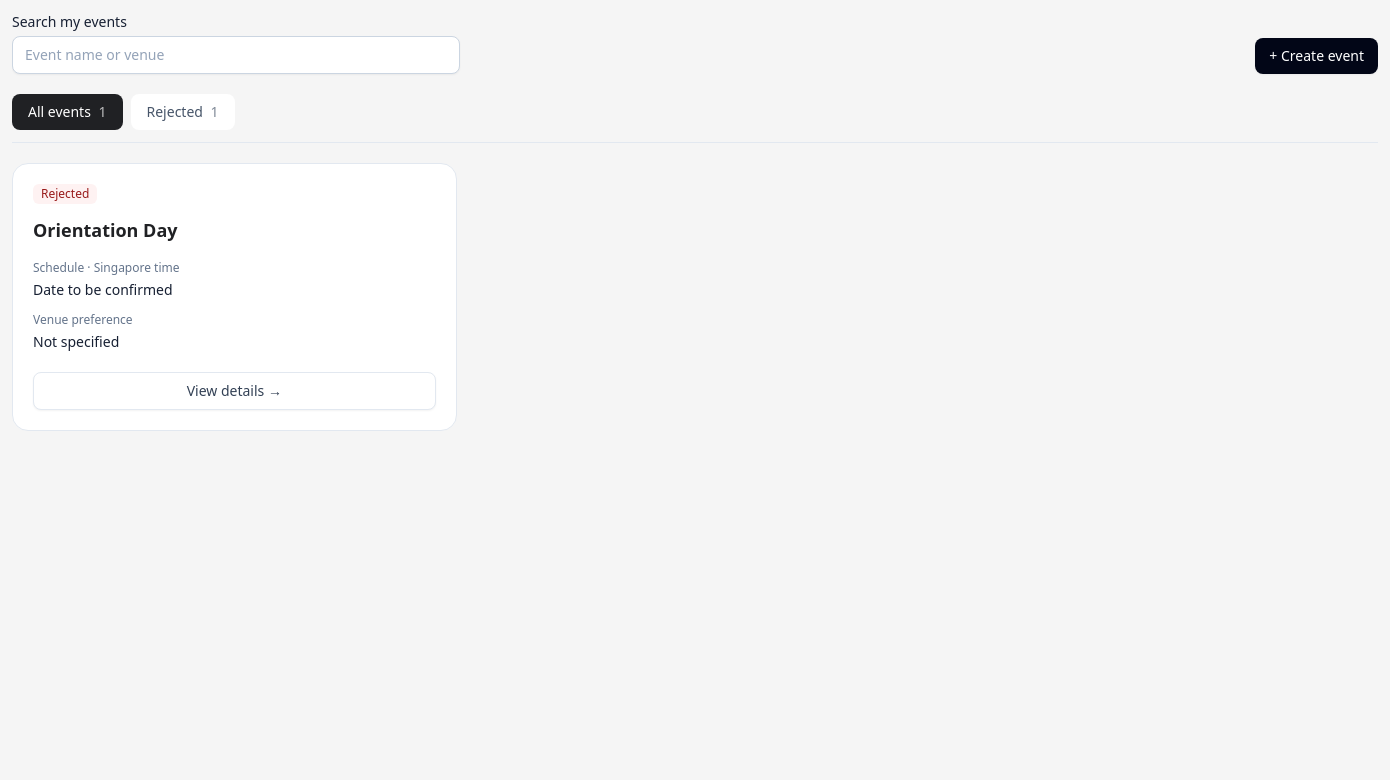
it: SCRUM-37 propose a significant change › AC7: a rejected request explains the edit and resubmit path instead
This screenshot has width=1390, height=780.
Click the button with aria-label "View details for Orientation Day". click: coordinates (234, 391)
box: [33,372,436,410]
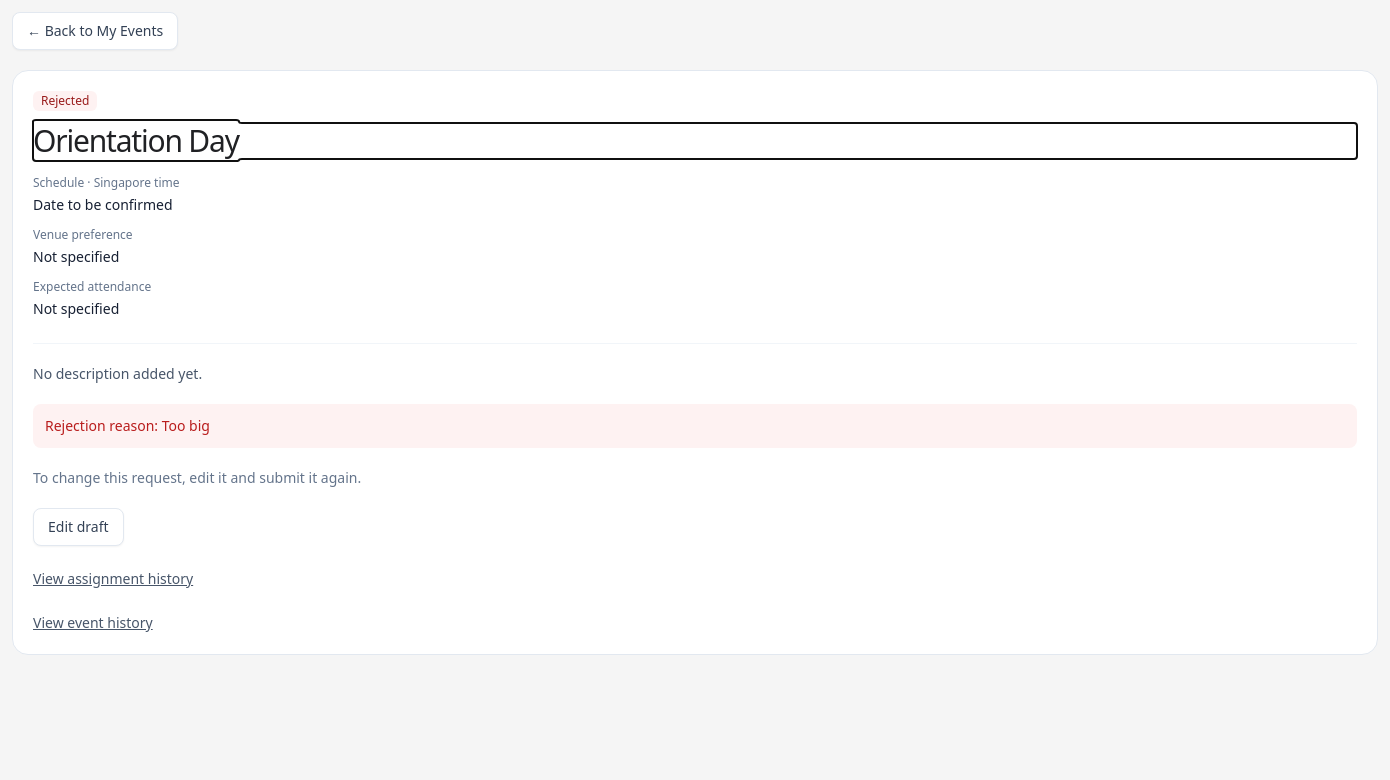
Expected: the text "To change this request, edit it and submit it again." is shown, [33,468,361,487]
